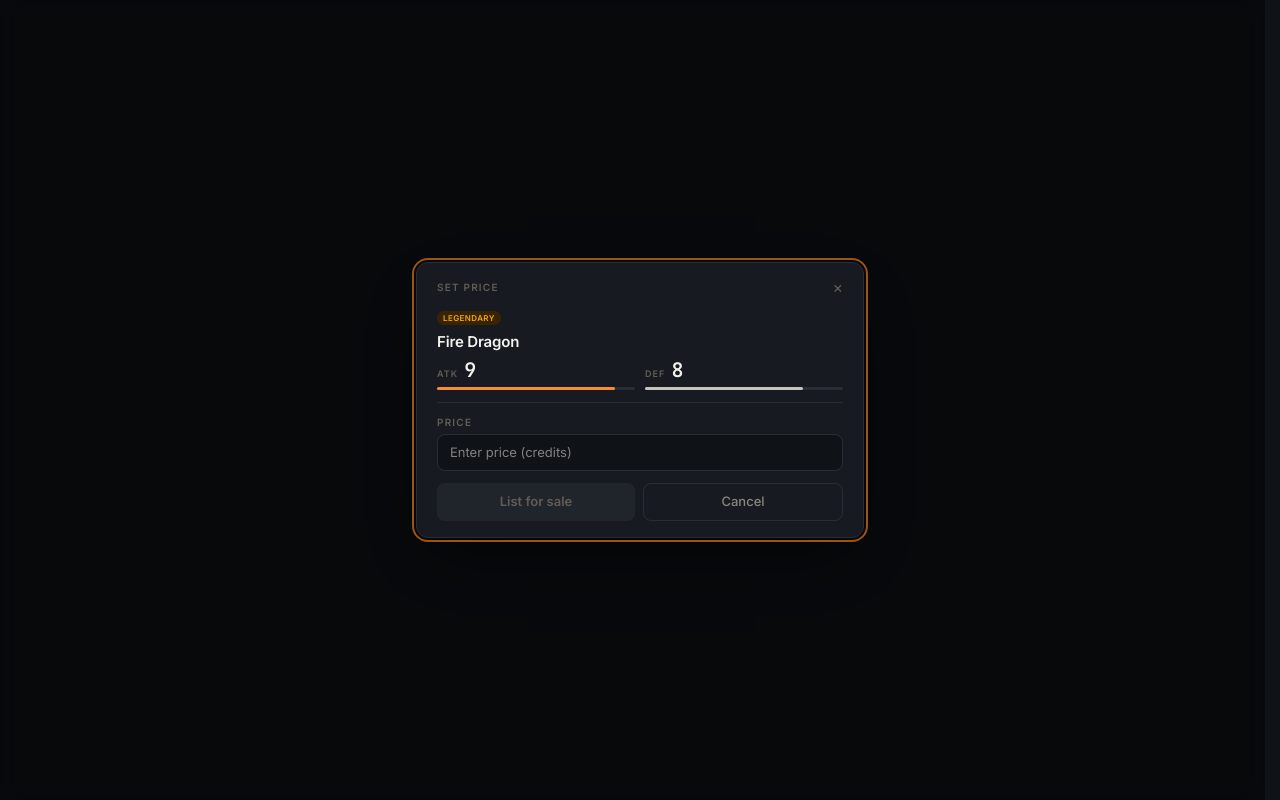
Scenario: SetPriceModal › shows an inline error and stays open when price update fails
In the number field labelled "Price": (640, 452) [437,434,843,471], type "42"
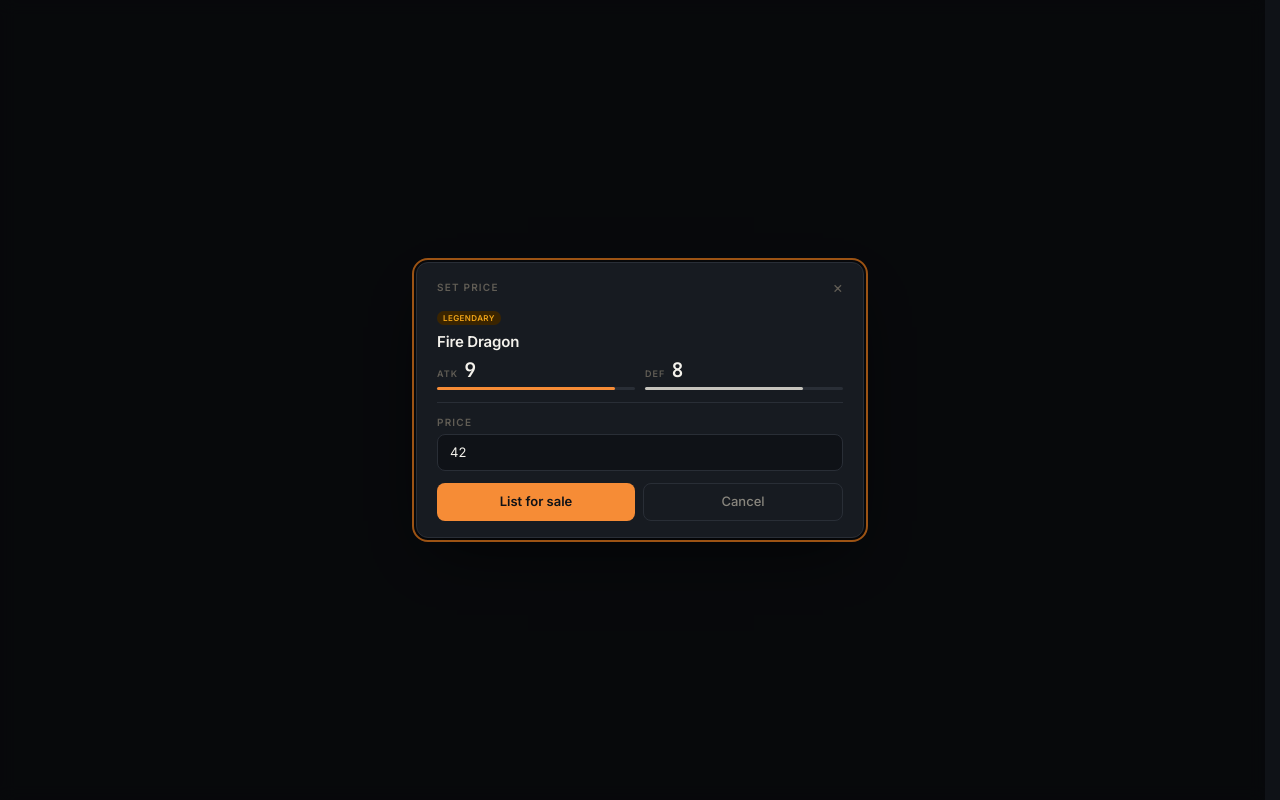
Click the button "List for sale": (536, 502) [437,483,635,521]
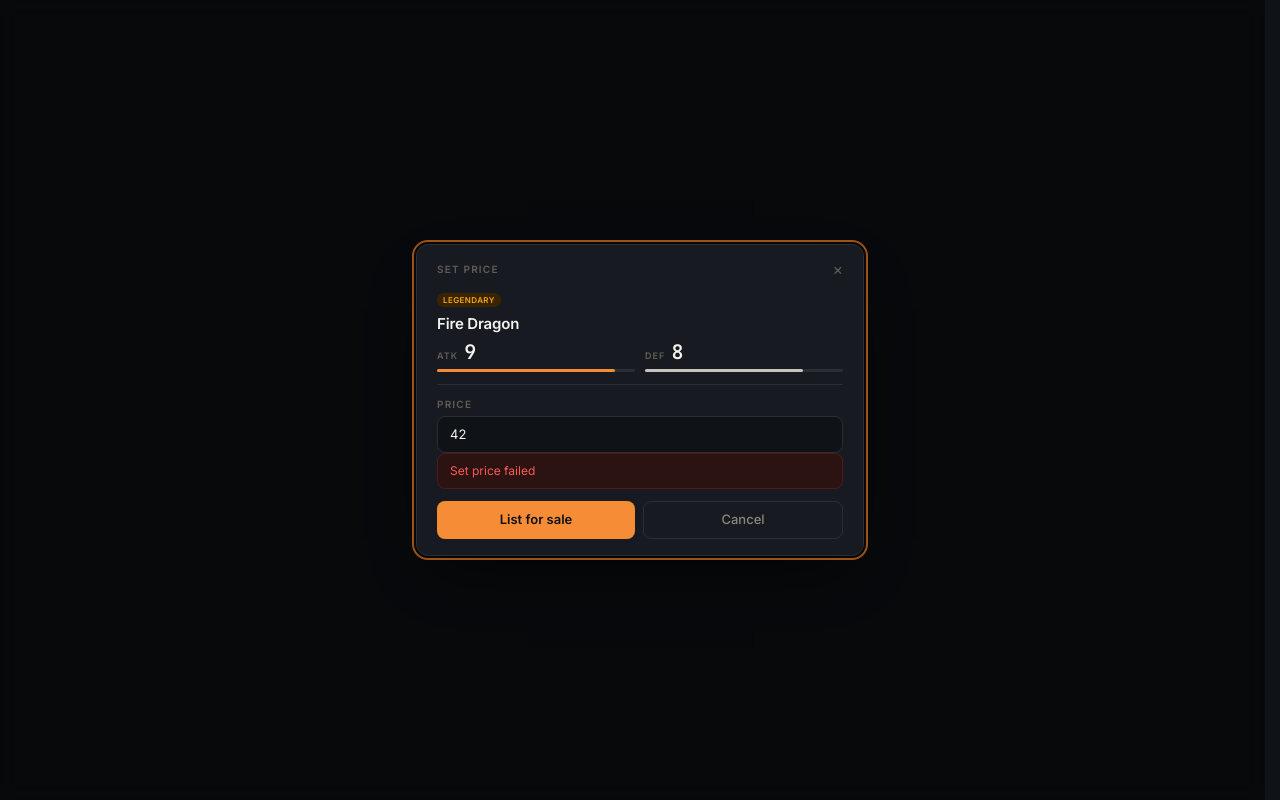
Result: the message reads "Set price failed" at [450,463,535,478]
